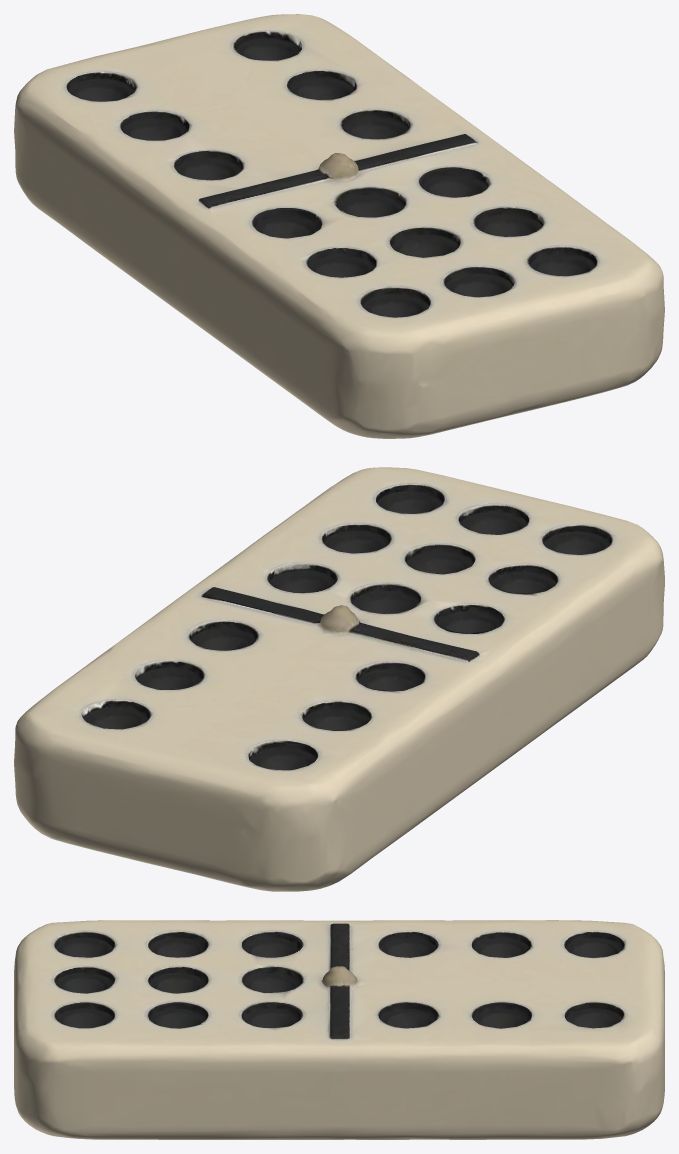
The model's file is 9-6-domino.glb.
3 views of the same model, one above another, from view 1: azimuth 30°, elevation 25°; view 2: azimuth 150°, elevation 25°; view 3: azimuth 270°, elevation 25° (orthographic). The views are drawn at different scales.
Parts seen in each view (by area): view 1: tripo_node_999b42bb-3411-48c1-88a6-7151a8a398e4; view 2: tripo_node_999b42bb-3411-48c1-88a6-7151a8a398e4; view 3: tripo_node_999b42bb-3411-48c1-88a6-7151a8a398e4.
Part boxes in pixels (x1=…): tripo_node_999b42bb-3411-48c1-88a6-7151a8a398e4: x1=14, y1=14, x2=664, y2=438; tripo_node_999b42bb-3411-48c1-88a6-7151a8a398e4: x1=14, y1=467, x2=664, y2=891; tripo_node_999b42bb-3411-48c1-88a6-7151a8a398e4: x1=14, y1=920, x2=664, y2=1139.
Bounding box in the file's own units: 0.481 × 0.1846 × 0.9795.
Materials: 1 (1 with a texture image).
